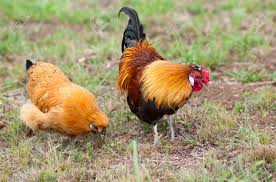chicken: (113, 3, 211, 149), (16, 53, 112, 155)
